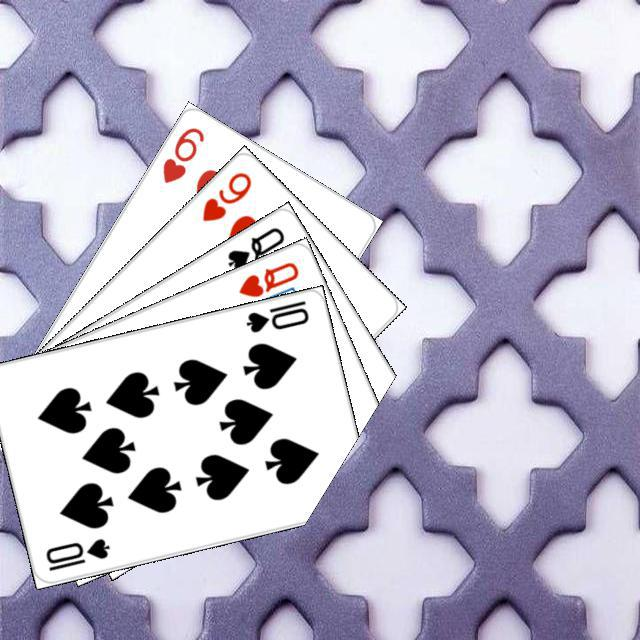10s: (241, 295, 311, 335), (40, 533, 111, 572)
6h: (157, 122, 206, 185)
9h: (196, 167, 253, 224)
Qh: (233, 257, 301, 299)
Qs: (222, 222, 287, 273)
